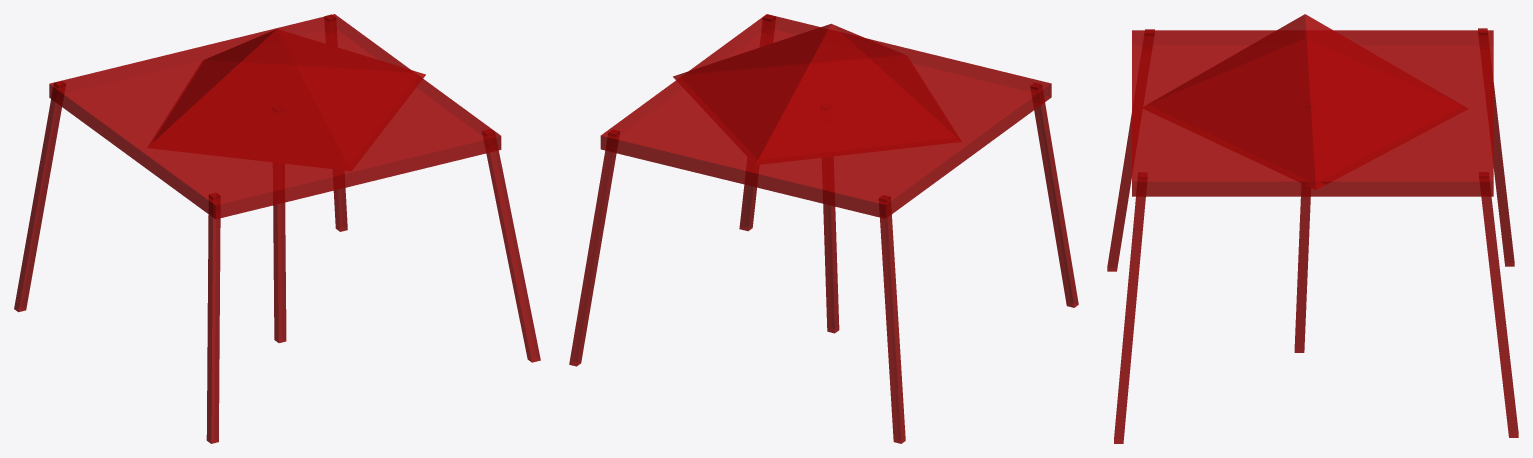
Rendered from SM_Bld_CamoNet_Tent_02_Collision.fbx.
3 views of the same model, side by side, from view 1: azimuth 30°, elevation 25°; view 2: azimuth 150°, elevation 25°; view 3: azimuth 270°, elevation 25° (orthographic). The views are drawn at different scales.
Visible parts, largest first — view 1: SM_Bld_CamoNet_Tent_02_Collision; view 2: SM_Bld_CamoNet_Tent_02_Collision; view 3: SM_Bld_CamoNet_Tent_02_Collision.
Part boxes in pixels (x1=…): SM_Bld_CamoNet_Tent_02_Collision: x1=14, y1=14, x2=540, y2=443; SM_Bld_CamoNet_Tent_02_Collision: x1=569, y1=14, x2=1078, y2=443; SM_Bld_CamoNet_Tent_02_Collision: x1=1107, y1=14, x2=1518, y2=443.
Bounding box in the file's own units: 447 × 387 × 428.
